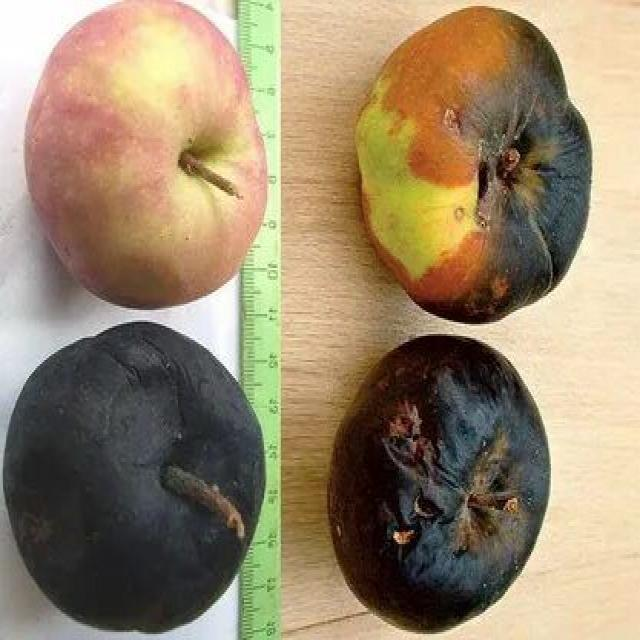Fresh Apple: (25, 3, 273, 294)
Rotten: (340, 27, 597, 328), (12, 328, 265, 627), (326, 340, 556, 612)
